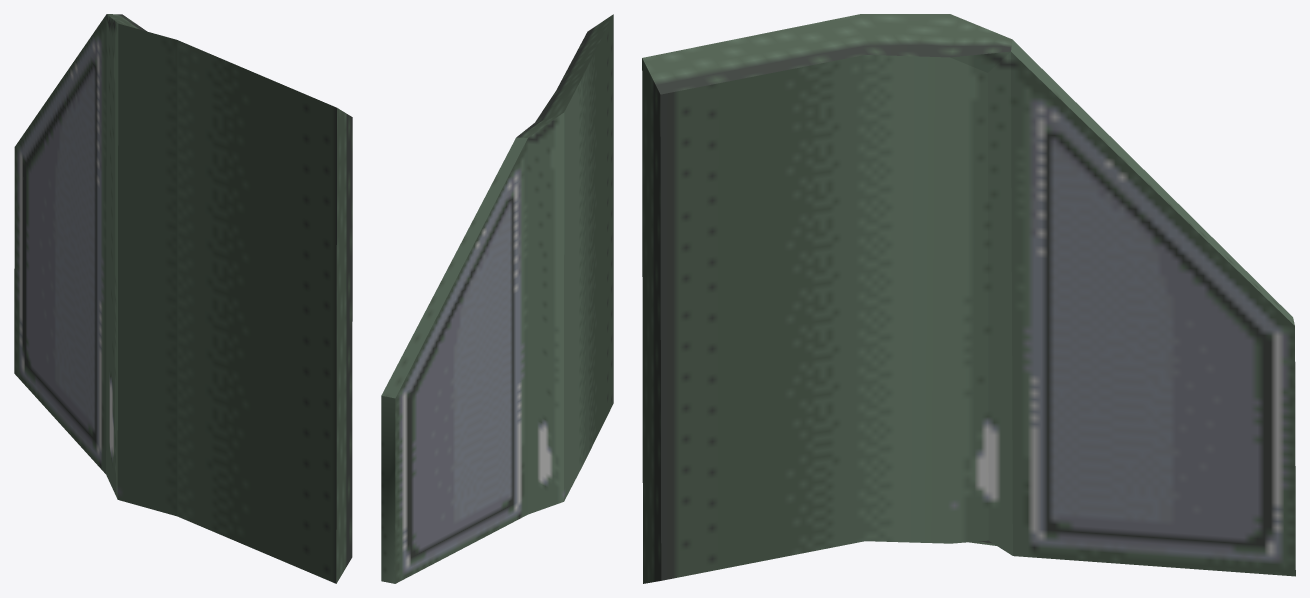
File: CarDoor_Hand.fbx
3 views of the same model, side by side, from view 1: azimuth 30°, elevation 25°; view 2: azimuth 150°, elevation 25°; view 3: azimuth 270°, elevation 25° (orthographic). The views are drawn at different scales.
Parts seen in each view (by area): view 1: CarDoor; view 2: CarDoor; view 3: CarDoor.
Part boxes in pixels (left/top/right/bottom): CarDoor: left=14, top=14, right=352, bottom=583; CarDoor: left=381, top=14, right=613, bottom=583; CarDoor: left=642, top=14, right=1295, bottom=583.
Size of the model in its own units: 0.124 by 0.5591 by 0.6164.
